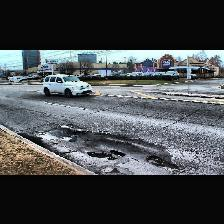pothole: (146, 155, 180, 171), (110, 148, 125, 156), (82, 129, 88, 133), (73, 130, 79, 134)
